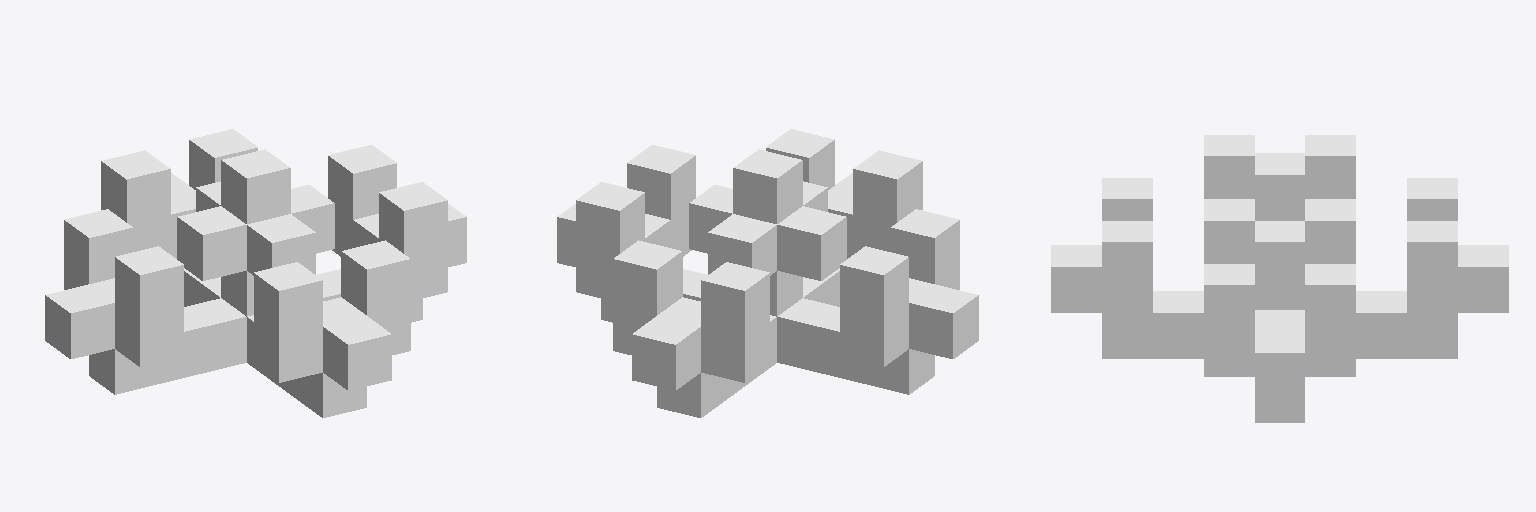
The model's file is flower_top.obj.
The picture shows the model from 3 angles: view 1: azimuth 30°, elevation 25°; view 2: azimuth 150°, elevation 25°; view 3: azimuth 270°, elevation 25°; orthographic projection.
Visible parts, largest first — view 1: flower_top; view 2: flower_top; view 3: flower_top.
Boxes of the visible parts, x1,y1,x2,y2 form: flower_top: [45, 129, 466, 417]; flower_top: [557, 129, 978, 417]; flower_top: [1051, 135, 1508, 422].
Size of the model in its own units: 9 by 4 by 9.